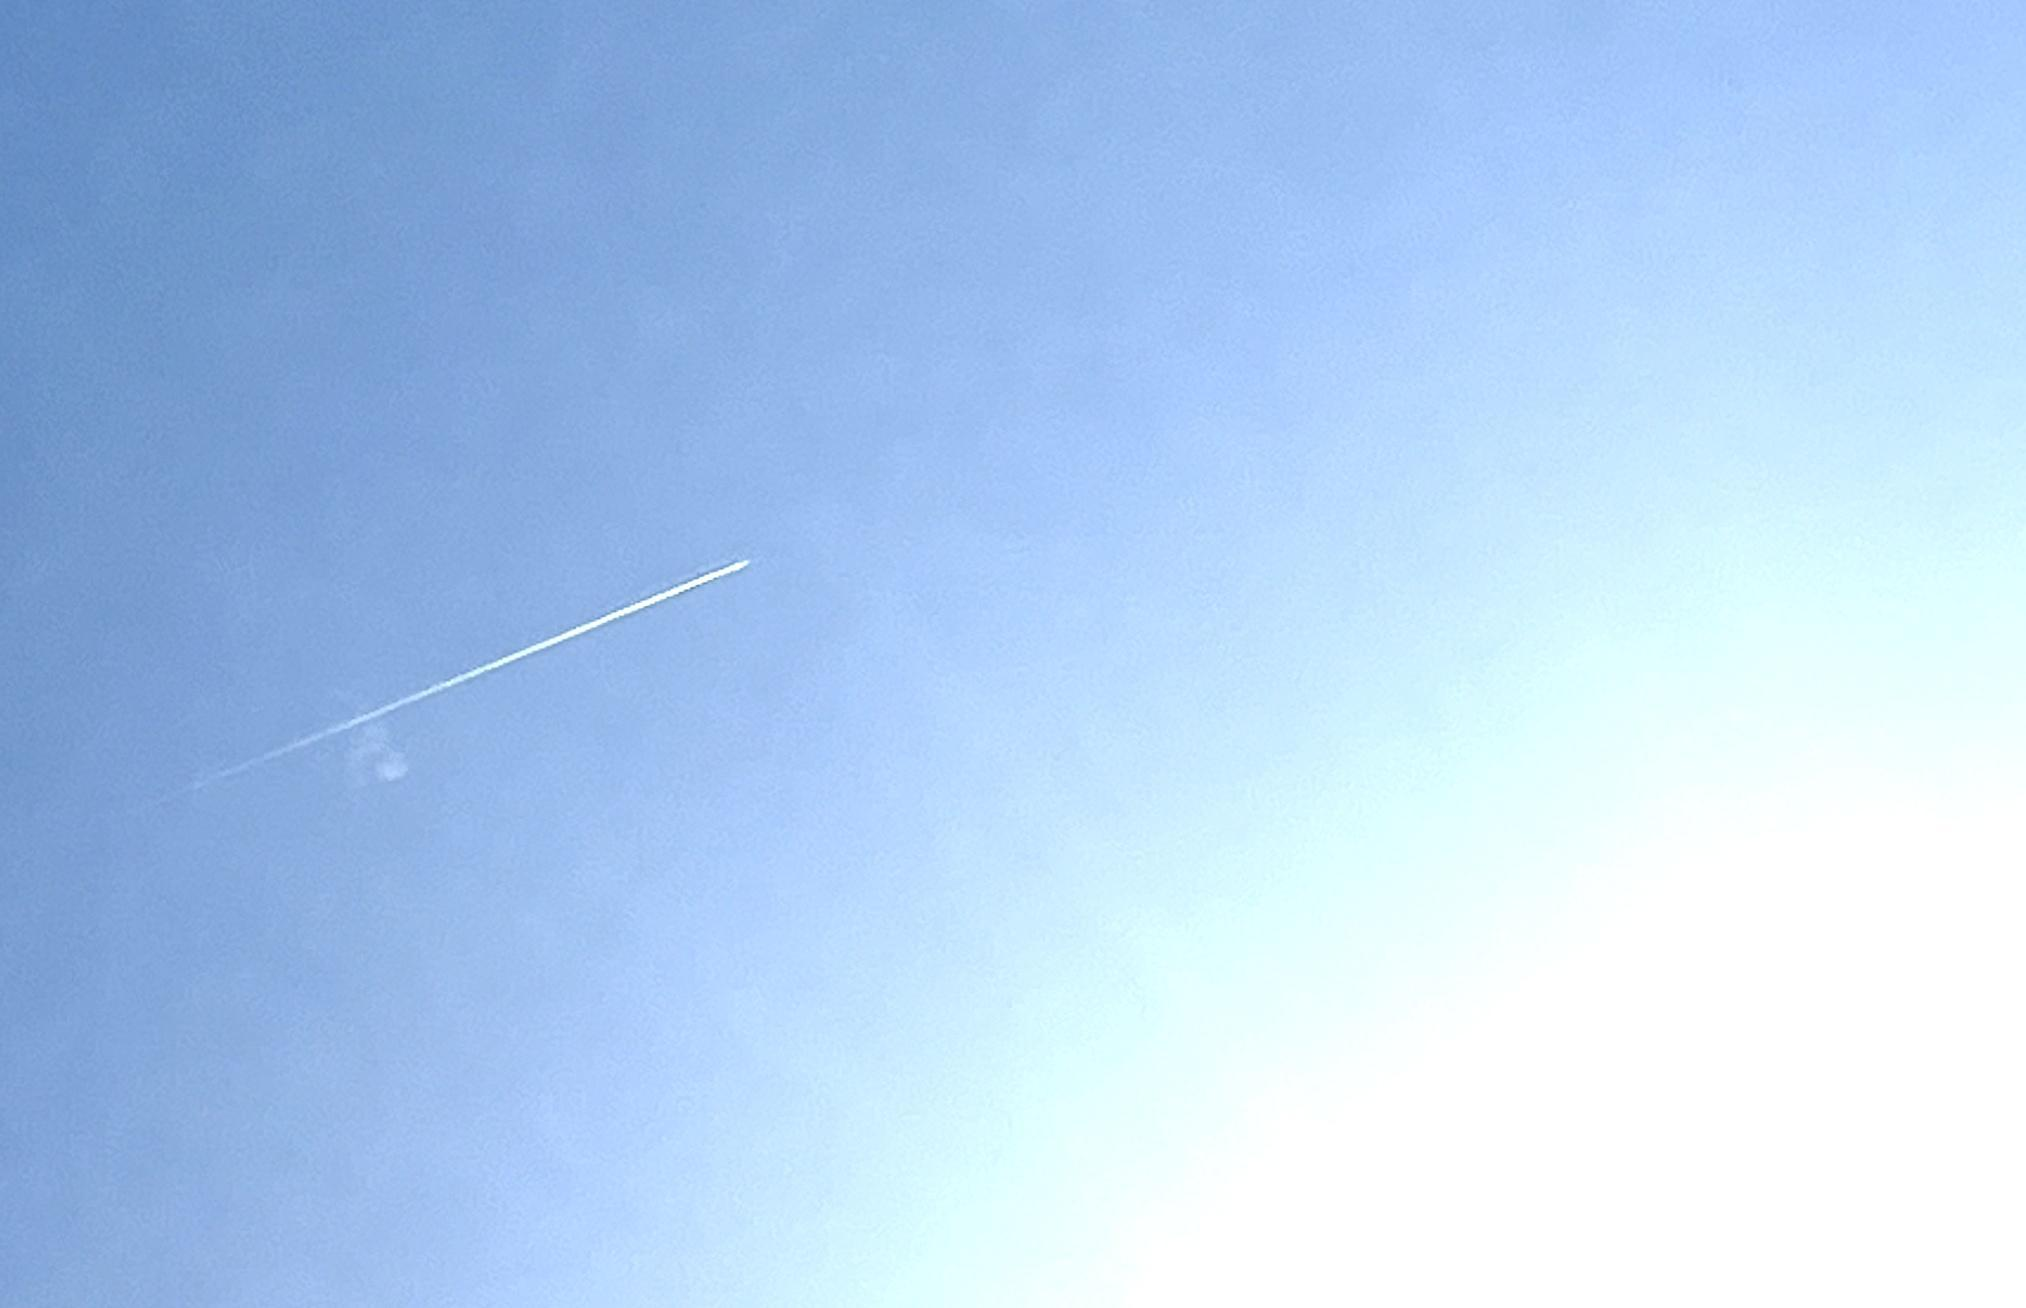Plane: (380, 527, 774, 788)
